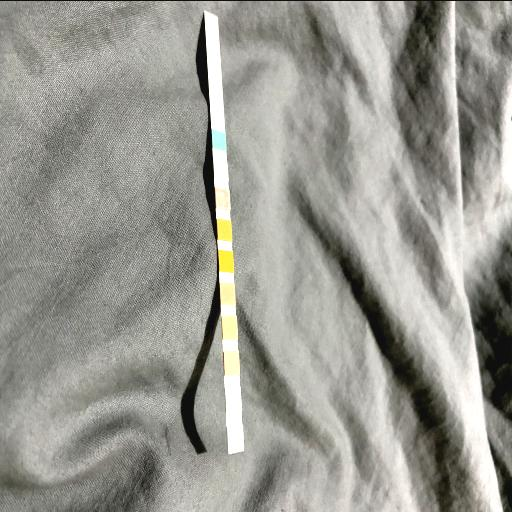Bilirubin: (214, 160, 227, 177)
Blood: (219, 251, 233, 271)
Glucose: (213, 132, 225, 148)
Ketone: (217, 189, 229, 207)
Leukocytes: (228, 426, 242, 450)
Nitrite: (226, 387, 240, 410)
Protein: (223, 316, 237, 338)
SpGravity: (218, 220, 232, 240)
Urobilinogen: (224, 350, 238, 374)
pH: (220, 283, 234, 304)
strip: (204, 10, 244, 453)
